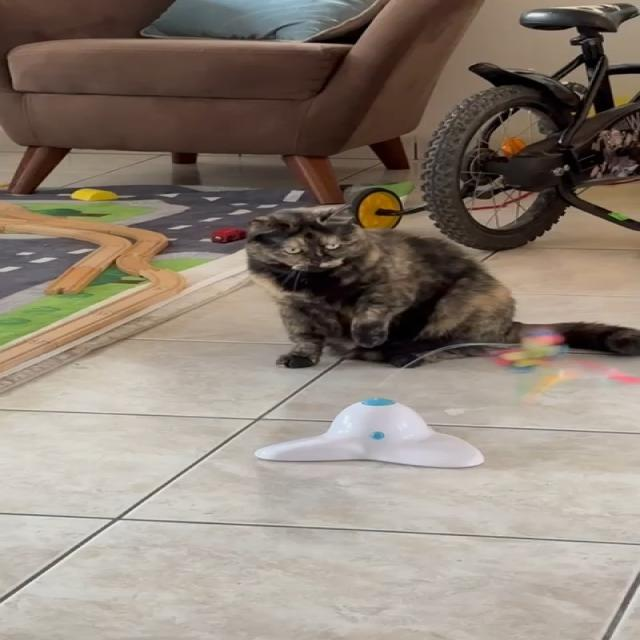authorized: (242, 203, 638, 369)
